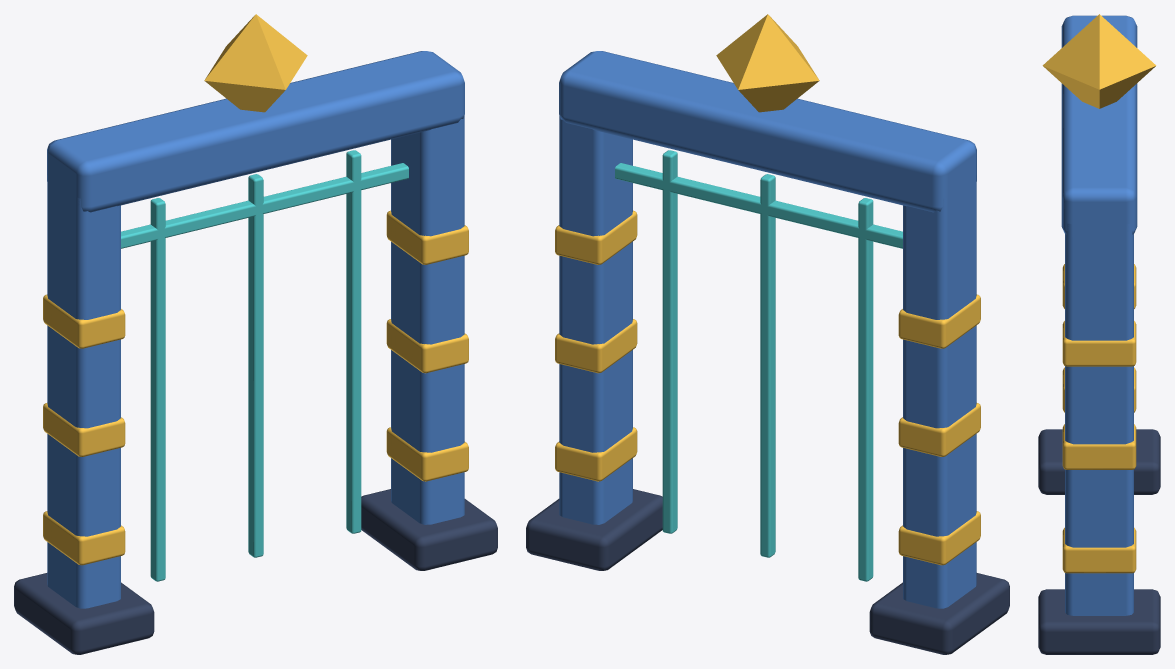
The model's file is goal-portal.glb.
3 views of the same model, side by side, from view 1: azimuth 30°, elevation 25°; view 2: azimuth 150°, elevation 25°; view 3: azimuth 270°, elevation 25° (orthographic). The views are drawn at different scales.
Visible parts, largest first — view 1: lintel, post--0.93, post-0.93, foot--0.93, foot-0.93, gate-bar-0.53, gate-bar--0.53, gate-bar-0, diamond, gate-crossbar, inlay--0.93-2, inlay--0.93-0 (+4 smaller); view 2: lintel, post--0.93, post-0.93, foot--0.93, foot-0.93, gate-bar-0, gate-bar--0.53, gate-bar-0.53, diamond, gate-crossbar, inlay--0.93-2, inlay--0.93-0 (+4 smaller); view 3: post-0.93, lintel, foot-0.93, diamond, foot--0.93, inlay-0.93-0, inlay-0.93-2, inlay-0.93-1, inlay--0.93-0, inlay--0.93-1.
Part boxes in pixels (x1,y1,x2,y2): lintel: [47, 51, 464, 212]; post--0.93: [47, 175, 120, 608]; post-0.93: [391, 116, 464, 524]; foot--0.93: [14, 573, 154, 654]; foot-0.93: [361, 489, 497, 570]; gate-bar-0.53: [346, 150, 361, 533]; gate-bar--0.53: [150, 198, 165, 581]; gate-bar-0: [248, 174, 263, 557]; diamond: [204, 14, 307, 112]; gate-crossbar: [121, 163, 408, 248]; inlay--0.93-2: [43, 294, 125, 348]; inlay--0.93-0: [43, 511, 125, 565]; lintel: [559, 51, 976, 212]; post--0.93: [903, 175, 976, 608]; post-0.93: [559, 116, 632, 524]; foot--0.93: [869, 573, 1009, 654]; foot-0.93: [526, 489, 662, 570]; gate-bar-0: [760, 174, 775, 557]; gate-bar--0.53: [858, 198, 873, 581]; gate-bar-0.53: [662, 150, 677, 533]; diamond: [716, 14, 819, 112]; gate-crossbar: [615, 163, 902, 248]; inlay--0.93-2: [898, 294, 980, 348]; inlay--0.93-0: [898, 511, 980, 565]; post-0.93: [1065, 223, 1133, 615]; lintel: [1061, 15, 1137, 234]; foot-0.93: [1038, 589, 1160, 654]; diamond: [1042, 14, 1156, 108]; foot--0.93: [1038, 429, 1160, 494]; inlay-0.93-0: [1062, 527, 1136, 573]; inlay-0.93-2: [1062, 321, 1136, 366]; inlay-0.93-1: [1062, 424, 1136, 469]; inlay--0.93-0: [1062, 367, 1136, 412]; inlay--0.93-1: [1062, 264, 1136, 308].
Size of the model in its own units: 2.31 by 2.95 by 0.6.
